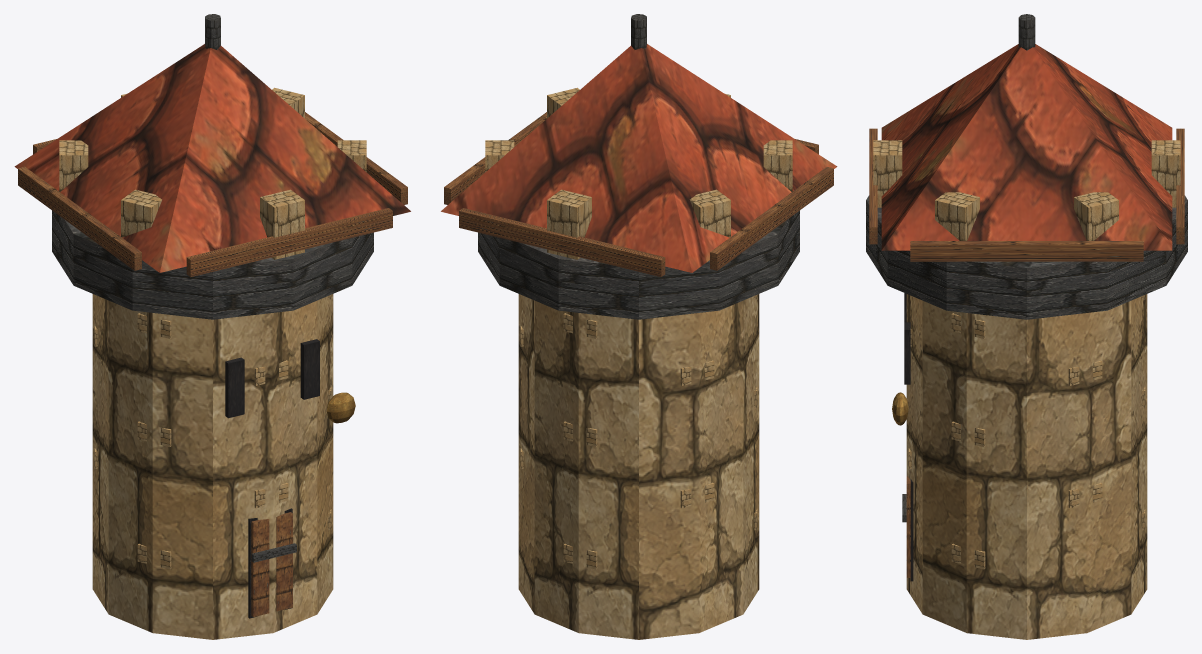
Rendered from watch-tower.glb.
3 renders of one model, left to right at view 1: azimuth 30°, elevation 25°; view 2: azimuth 150°, elevation 25°; view 3: azimuth 270°, elevation 25°, orthographic.
Visible parts, largest first — view 1: watch_tower_landmark; view 2: watch_tower_landmark; view 3: watch_tower_landmark.
Part boxes in pixels (box(x1,y1,x2,y2)): watch_tower_landmark: box(14, 14, 410, 639); watch_tower_landmark: box(441, 14, 837, 639); watch_tower_landmark: box(866, 14, 1187, 639).
Size of the model in its own units: 3.1 by 6.08 by 3.1.
7 materials, 7 textured.
